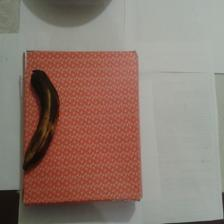Banana Rotten: (16, 58, 58, 182)
